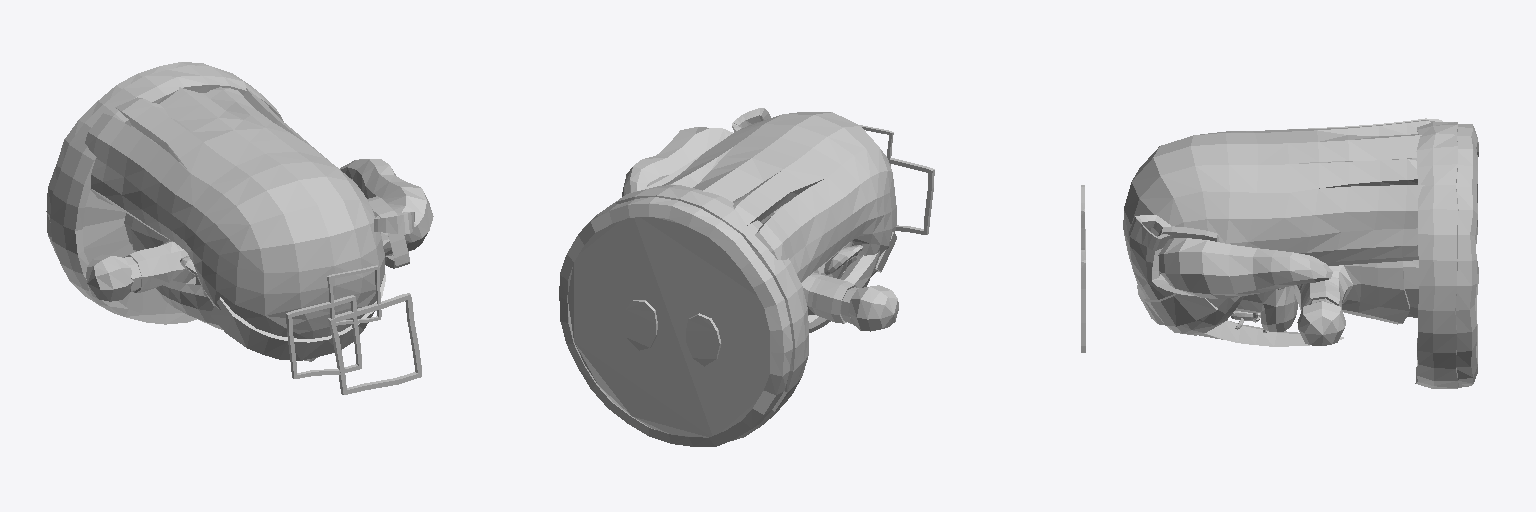
File: Arisu.obj
The picture shows the model from 3 angles: view 1: azimuth 30°, elevation 25°; view 2: azimuth 150°, elevation 25°; view 3: azimuth 270°, elevation 25°; orthographic projection.
Visible parts, largest first — view 1: obj4, obj5, obj10, obj2; view 2: obj5, obj4, obj10, obj2, obj13; view 3: obj4, obj5, obj10, obj13, obj2.
Boxes of the visible parts, x1,y1,x2,y2 form: obj4: [85, 87, 433, 361]; obj5: [46, 62, 283, 324]; obj10: [86, 213, 195, 301]; obj2: [286, 265, 421, 394]; obj5: [559, 185, 808, 446]; obj4: [622, 108, 896, 332]; obj10: [623, 272, 898, 366]; obj2: [860, 125, 934, 234]; obj13: [761, 203, 862, 278]; obj4: [1123, 118, 1442, 346]; obj5: [1415, 122, 1478, 388]; obj10: [1294, 260, 1418, 345]; obj13: [1235, 285, 1297, 331]; obj2: [1081, 185, 1085, 352].
Size of the model in its own units: 291 by 231 by 342.